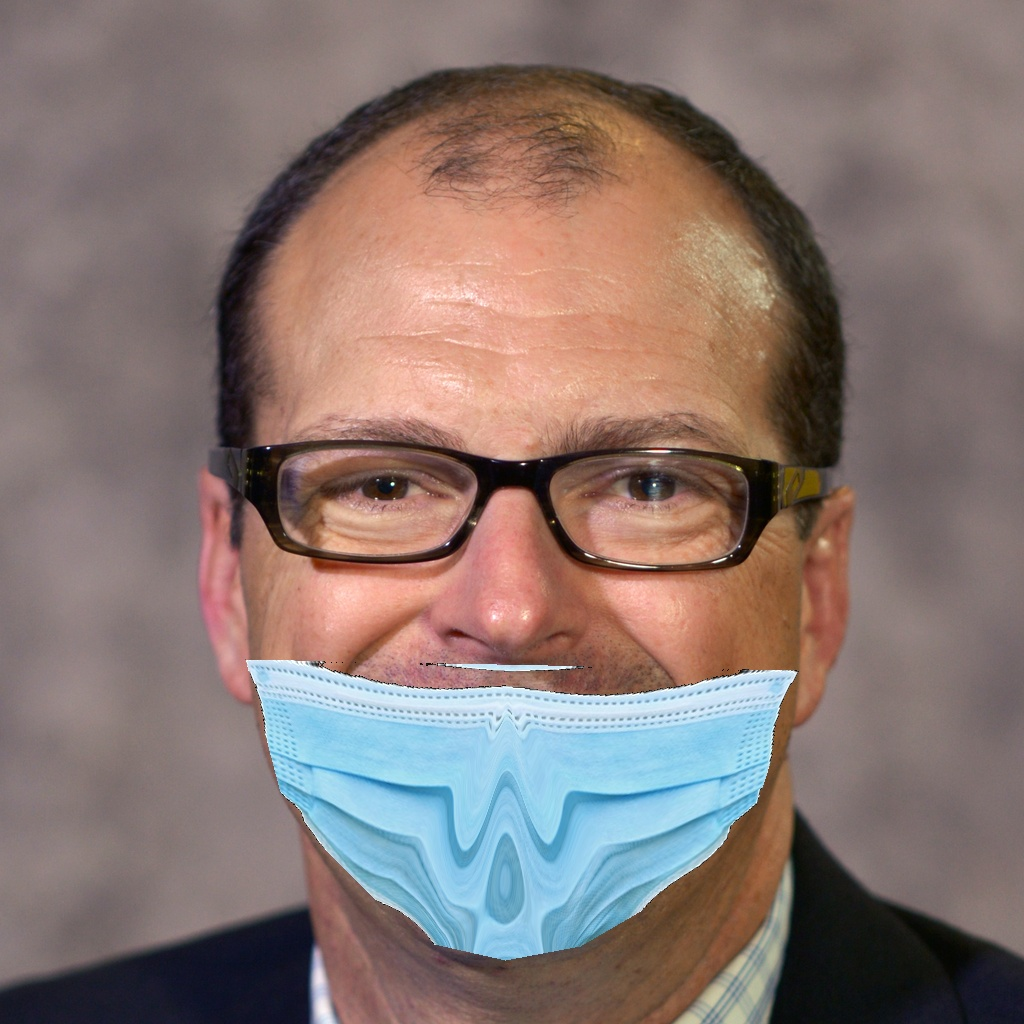mascarilla_mal_puesta: (247, 330, 824, 990)
